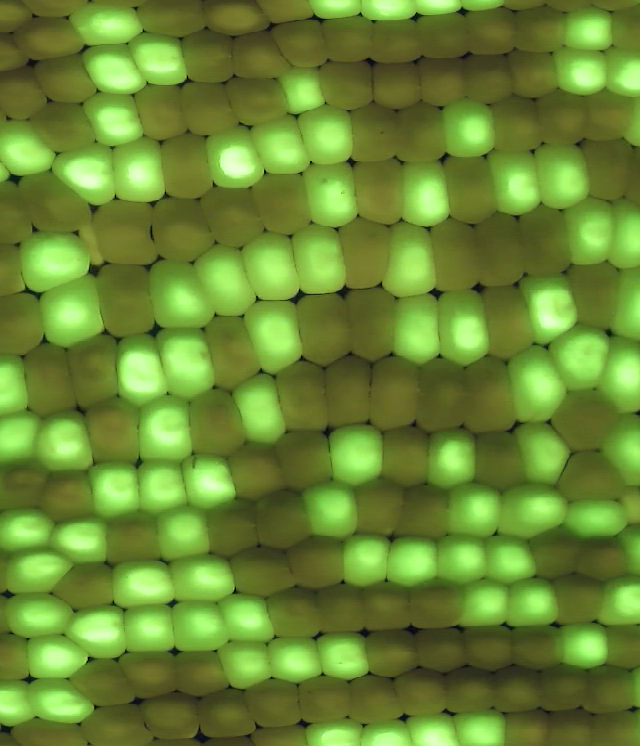fluorescent: (501, 341, 577, 429), (33, 269, 109, 355), (146, 322, 226, 400), (514, 270, 588, 354), (239, 296, 313, 378), (145, 254, 220, 333), (26, 403, 105, 478), (374, 217, 444, 301), (188, 240, 261, 320), (544, 319, 616, 400), (13, 226, 95, 297), (507, 415, 580, 494), (430, 285, 497, 369), (491, 478, 577, 543), (106, 329, 175, 410), (228, 368, 295, 451), (48, 137, 123, 211), (285, 220, 355, 299), (239, 228, 307, 307), (319, 419, 394, 490), (528, 138, 597, 215), (130, 392, 198, 468), (557, 194, 623, 272), (246, 110, 320, 179), (482, 144, 549, 220), (386, 291, 450, 369), (203, 123, 273, 193), (77, 37, 156, 99), (300, 159, 367, 232), (292, 101, 361, 171), (393, 158, 458, 231), (80, 86, 154, 150), (108, 133, 171, 208), (297, 476, 367, 543), (437, 93, 502, 165), (162, 596, 237, 658), (161, 552, 243, 608), (494, 571, 568, 632), (126, 27, 197, 90), (0, 588, 86, 640), (105, 555, 185, 610), (423, 422, 483, 495), (59, 602, 132, 662), (21, 671, 103, 724), (439, 480, 511, 540), (1, 543, 79, 598), (179, 451, 247, 513), (592, 333, 640, 420), (130, 455, 196, 518), (0, 113, 61, 181), (66, 1, 144, 54), (218, 586, 282, 649), (87, 459, 152, 521), (310, 627, 381, 683), (150, 502, 216, 562), (22, 632, 99, 683), (477, 528, 541, 588), (118, 599, 183, 658), (428, 530, 494, 588), (46, 513, 118, 566), (551, 618, 620, 673), (262, 631, 332, 685), (215, 636, 282, 692), (559, 497, 637, 544), (548, 44, 612, 101), (454, 574, 516, 632), (272, 60, 331, 120), (381, 534, 442, 590), (0, 504, 63, 558), (339, 527, 395, 587), (0, 408, 52, 472), (600, 408, 640, 490), (557, 6, 619, 56), (594, 568, 640, 632), (602, 195, 640, 272), (447, 706, 517, 746), (606, 262, 640, 344), (599, 43, 640, 104), (400, 707, 464, 746), (0, 350, 33, 423), (299, 715, 374, 746), (0, 675, 38, 732), (351, 1, 428, 28), (357, 718, 425, 746), (304, 1, 371, 26), (405, 1, 467, 19)
nonfluorescent: (85, 193, 166, 272), (13, 165, 97, 239), (77, 393, 153, 473), (15, 338, 88, 421), (269, 355, 339, 441), (92, 258, 165, 340), (59, 329, 128, 414), (143, 192, 219, 268), (457, 351, 523, 438), (201, 312, 269, 396), (196, 182, 274, 254), (547, 386, 625, 458), (468, 204, 530, 294), (290, 287, 356, 371), (411, 352, 475, 438), (514, 198, 579, 281), (182, 385, 252, 462), (477, 281, 540, 365), (44, 558, 132, 618), (318, 350, 379, 436), (364, 348, 423, 435), (244, 168, 317, 238), (246, 483, 317, 554), (24, 96, 103, 159), (269, 427, 341, 496), (215, 71, 295, 132), (550, 448, 630, 509), (441, 149, 501, 230), (428, 214, 487, 296), (224, 437, 294, 506), (387, 480, 459, 547), (346, 154, 411, 228), (100, 507, 174, 572), (576, 134, 640, 209), (343, 282, 399, 367), (562, 256, 624, 332), (467, 424, 532, 496), (223, 542, 301, 602), (9, 8, 91, 65), (157, 126, 217, 203), (190, 682, 266, 742), (174, 75, 245, 139), (202, 493, 266, 564), (66, 655, 145, 712), (530, 84, 596, 152), (335, 214, 392, 292), (340, 667, 415, 726), (390, 99, 454, 168), (238, 673, 310, 734), (30, 50, 106, 107), (265, 13, 336, 74), (137, 686, 209, 746), (373, 423, 436, 491), (483, 94, 552, 156), (75, 695, 157, 746), (168, 643, 240, 700), (129, 80, 192, 145), (389, 661, 456, 722), (293, 672, 363, 730), (314, 56, 380, 117), (117, 646, 185, 705), (284, 534, 354, 591), (313, 12, 384, 68), (347, 476, 411, 538), (262, 583, 329, 642), (35, 465, 98, 527), (226, 26, 294, 83), (405, 575, 473, 632), (548, 568, 610, 630), (575, 85, 640, 144), (405, 8, 476, 62), (345, 101, 403, 167), (364, 13, 432, 69), (0, 289, 52, 362), (485, 661, 554, 716), (177, 26, 239, 87), (358, 578, 419, 639), (526, 524, 589, 583), (571, 531, 636, 588), (504, 41, 564, 102), (576, 662, 640, 719), (459, 5, 526, 58), (454, 621, 522, 673), (128, 1, 218, 40), (361, 624, 426, 678), (507, 621, 572, 675), (368, 57, 427, 116), (0, 454, 58, 514), (532, 660, 595, 715), (411, 55, 470, 113), (458, 51, 518, 108), (313, 579, 374, 635), (0, 65, 56, 124), (410, 622, 476, 672), (442, 666, 504, 719), (509, 5, 570, 57), (196, 1, 269, 42), (0, 177, 37, 250), (0, 235, 38, 304), (599, 618, 640, 677), (72, 212, 112, 272), (583, 706, 640, 746), (498, 708, 555, 746), (541, 706, 595, 746), (0, 631, 39, 682), (249, 1, 319, 29), (0, 27, 36, 80), (605, 1, 640, 55), (0, 1, 37, 42), (18, 1, 92, 21)
